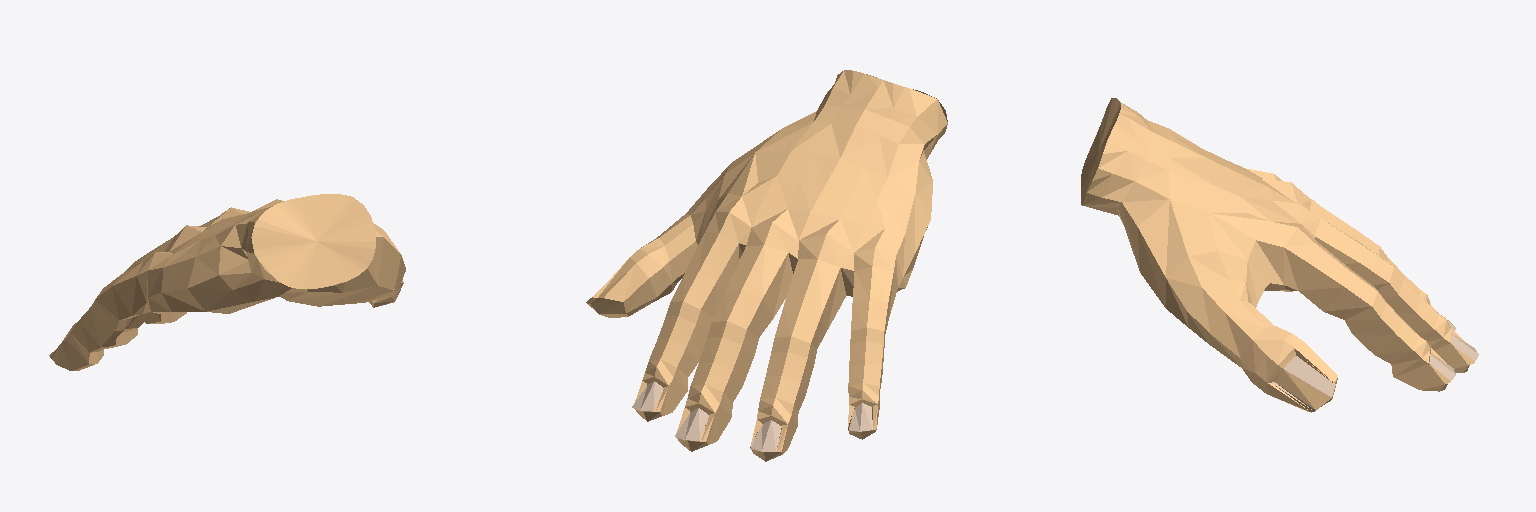
Rendered from hand_left.obj.
3 renders of one model, left to right at view 1: azimuth 30°, elevation 25°; view 2: azimuth 150°, elevation 25°; view 3: azimuth 270°, elevation 25°, orthographic.
Visible parts, largest first — view 1: polymsh1; view 2: polymsh1; view 3: polymsh1.
Boxes of the visible parts, x1,y1,x2,y2 form: polymsh1: [49, 194, 405, 370]; polymsh1: [586, 70, 947, 461]; polymsh1: [1081, 98, 1478, 412].
Bounding box in the file's own units: 260 × 200 × 286.